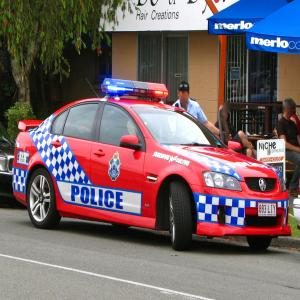Vehicle-registration-plate: (259, 202, 277, 218)
